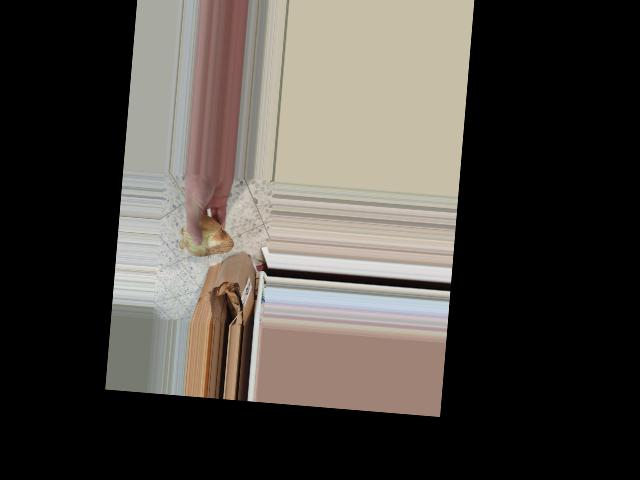onion: (177, 209, 234, 264)
